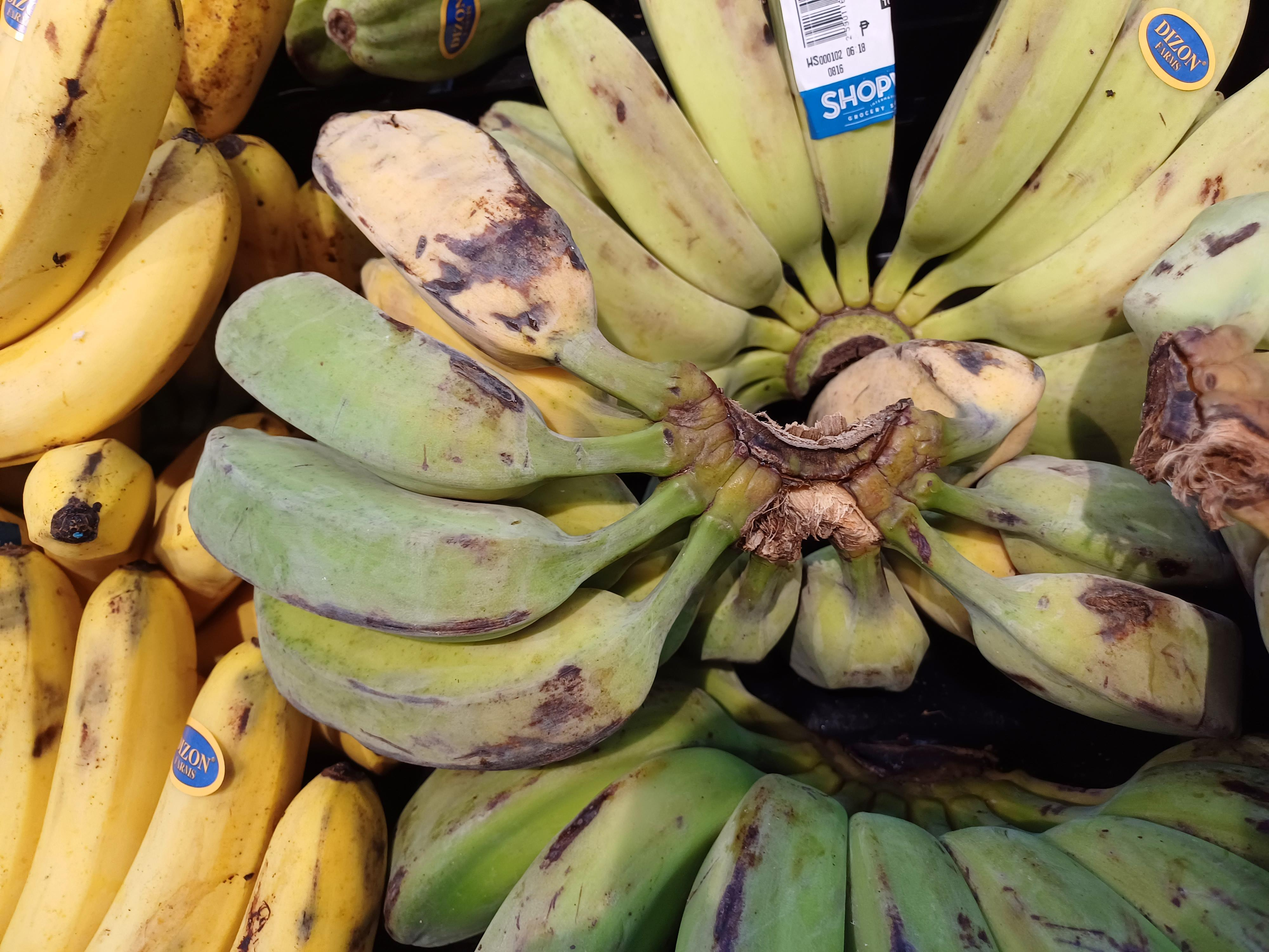underripe: (192, 110, 668, 768), (384, 678, 1269, 952), (903, 0, 1269, 467), (481, 0, 894, 370), (700, 455, 1241, 737)
